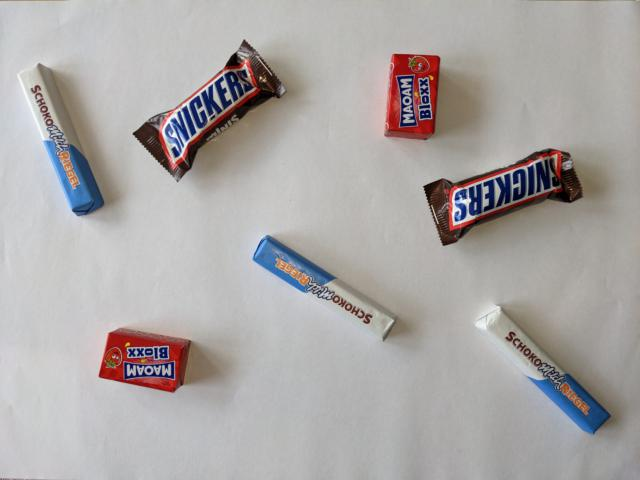MAOAM: (95, 325, 194, 395), (380, 51, 445, 142)
Schokoriegel: (471, 300, 614, 437), (248, 231, 401, 346), (13, 59, 106, 218)
Snickers: (129, 37, 289, 185), (421, 146, 585, 248)
